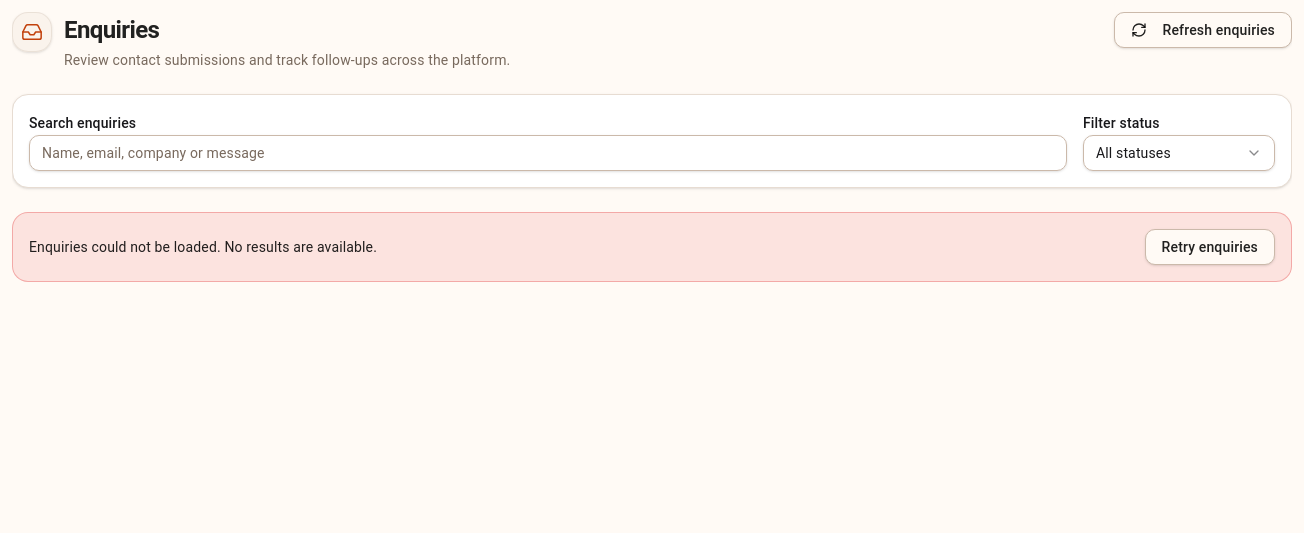
it: AdminContacts › shows errors rather than empty success and retries the request
Expected: the message "Enquiries could not be loaded. No results are available. Retry enquiries" is shown, [12,212,1292,282]
Click the button "Retry enquiries": click(1210, 247) [1145,229,1275,265]
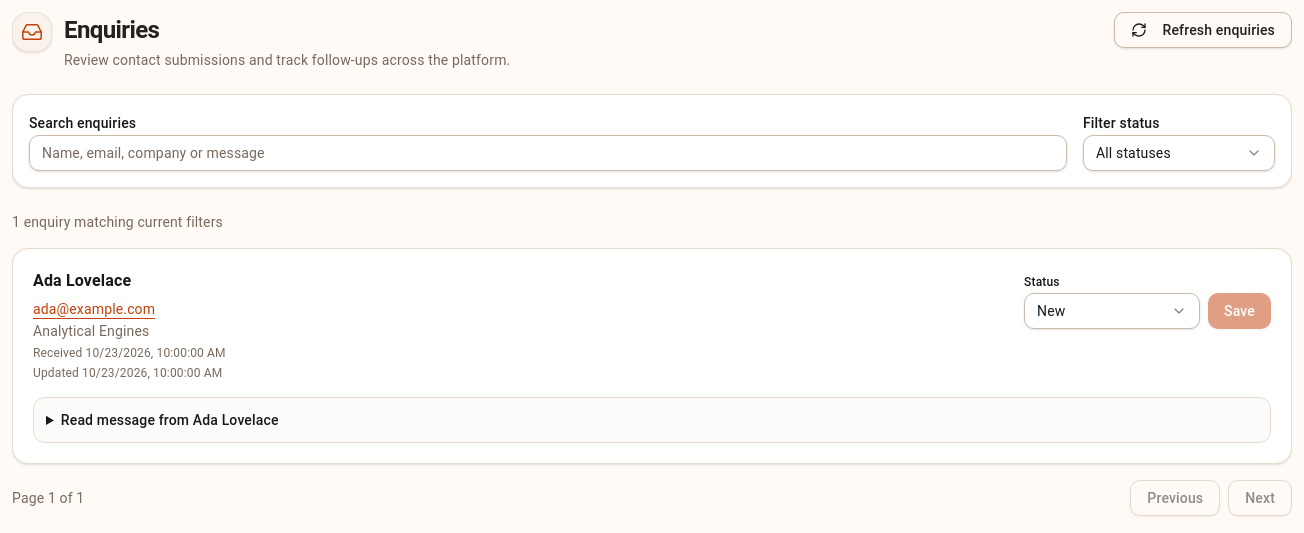
Now the heading "Ada Lovelace" is shown, box [33,271,131,290]
